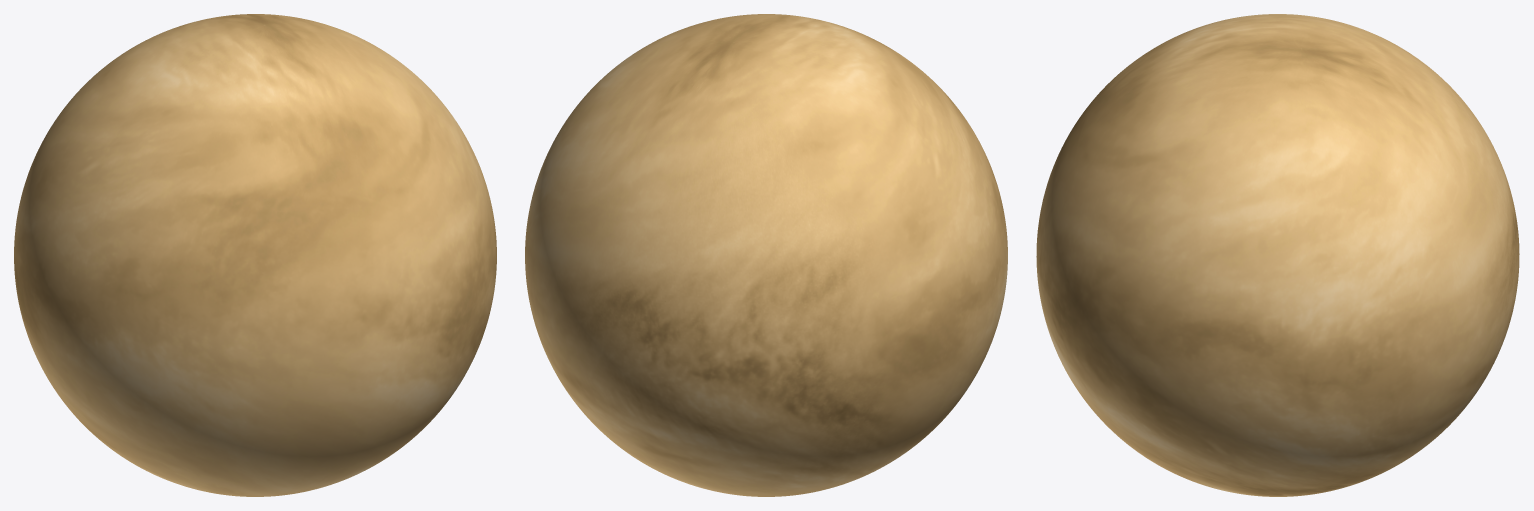
The model's file is venus.glb.
3 views of the same model, side by side, from view 1: azimuth 30°, elevation 25°; view 2: azimuth 150°, elevation 25°; view 3: azimuth 270°, elevation 25° (orthographic).
Visible parts, largest first — view 1: Venus; view 2: Venus; view 3: Venus.
Part boxes in pixels (x1,y1,x2,y2): Venus: [14, 14, 496, 496]; Venus: [525, 14, 1007, 496]; Venus: [1036, 14, 1519, 496].
Bounding box in the file's own units: 2.8 × 2.8 × 2.8.
Materials: 1 (1 with a texture image).
